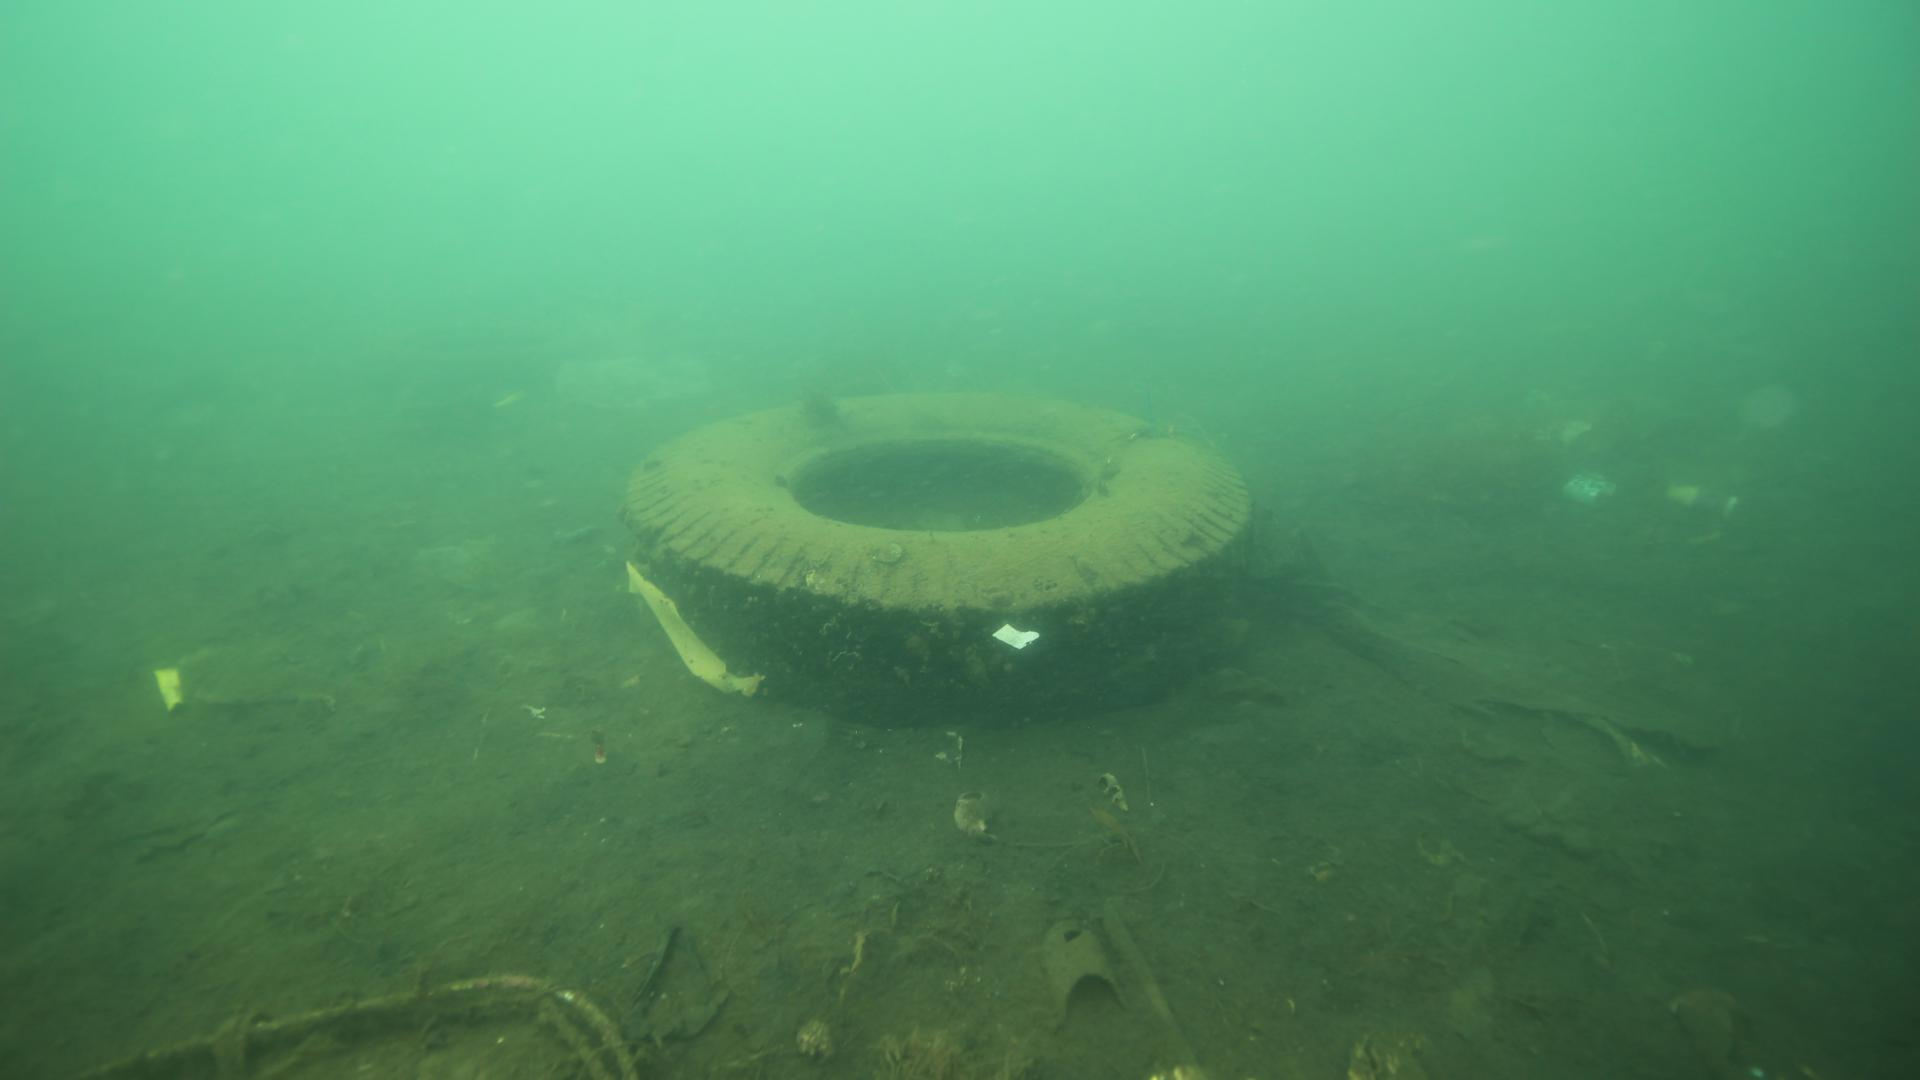tire: (616, 377, 1253, 717)
